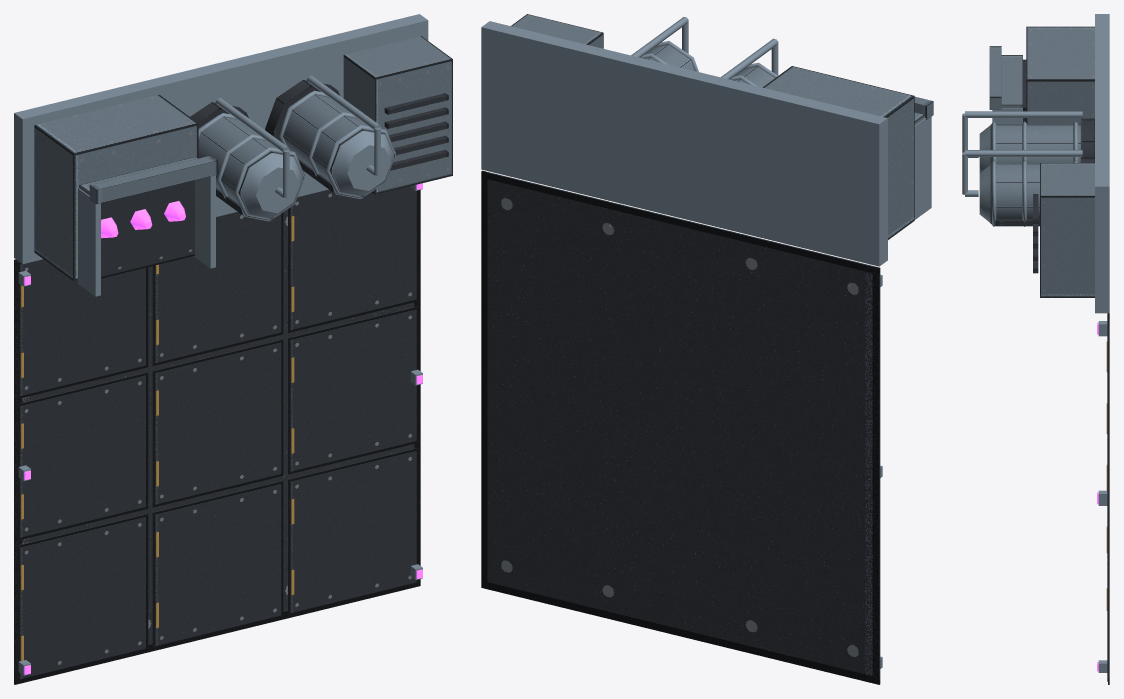
The model's file is refinery-low.glb.
The picture shows the model from 3 angles, left to right: view 1: azimuth 30°, elevation 25°; view 2: azimuth 150°, elevation 25°; view 3: azimuth 270°, elevation 25°; orthographic projection. The views are drawn at different scales.
Visible parts, largest first — view 1: refinery-root.003 / Ceramic graphite.001, refinery-root.003 / Brushed pale alloy.001, refinery-root.003 / Titanium edges.001, refinery-root.003 / Ore gold / optics.003, refinery-root.003 / Violet processing.001; view 2: refinery-root.003 / Ceramic graphite.001, refinery-root.003 / Titanium edges.001, refinery-root.003 / Brushed pale alloy.001; view 3: refinery-root.003 / Brushed pale alloy.001, refinery-root.003 / Titanium edges.001, refinery-root.003 / Ceramic graphite.001, refinery-root.003 / Ore gold / optics.003.
Boxes of the visible parts, x1,y1,x2,y2 form: refinery-root.003 / Ceramic graphite.001: [14, 80, 448, 684]; refinery-root.003 / Brushed pale alloy.001: [34, 36, 452, 280]; refinery-root.003 / Titanium edges.001: [14, 14, 428, 675]; refinery-root.003 / Ore gold / optics.003: [21, 216, 294, 660]; refinery-root.003 / Violet processing.001: [24, 183, 422, 674]; refinery-root.003 / Ceramic graphite.001: [481, 170, 880, 684]; refinery-root.003 / Titanium edges.001: [481, 17, 931, 668]; refinery-root.003 / Brushed pale alloy.001: [511, 14, 933, 239]; refinery-root.003 / Brushed pale alloy.001: [989, 26, 1094, 297]; refinery-root.003 / Titanium edges.001: [962, 14, 1109, 672]; refinery-root.003 / Ceramic graphite.001: [995, 59, 1109, 684]; refinery-root.003 / Ore gold / optics.003: [1106, 341, 1107, 610].
Size of the model in its own units: 12 by 16.15 by 4.34.
6 materials, 2 textured.
